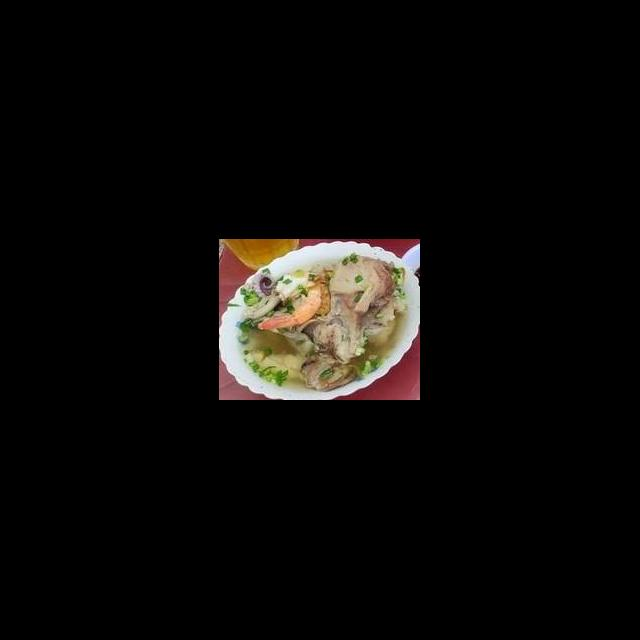tom: (254, 270, 326, 334)
